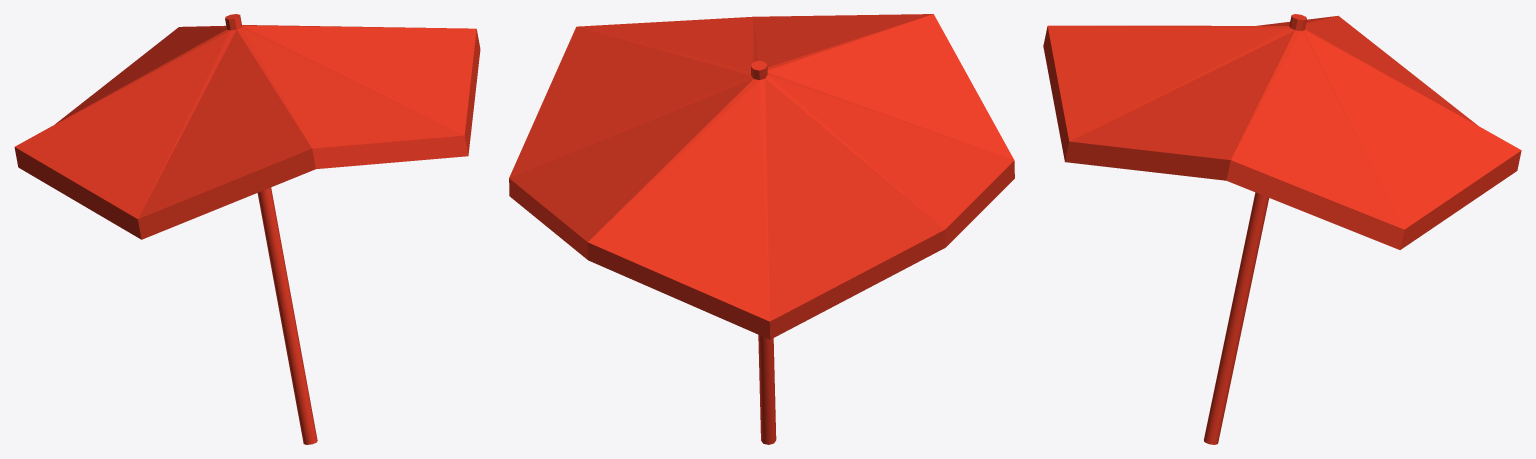
Rendered from Umbrella.FBX.
3 renders of one model, left to right at view 1: azimuth 30°, elevation 25°; view 2: azimuth 150°, elevation 25°; view 3: azimuth 270°, elevation 25°, orthographic. The views are drawn at different scales.
Parts seen in each view (by area): view 1: Umbrella; view 2: Umbrella; view 3: Umbrella.
Boxes of the visible parts, left/top/right/bottom form: Umbrella: left=14, top=14, right=480, bottom=444; Umbrella: left=509, top=14, right=1014, bottom=444; Umbrella: left=1043, top=14, right=1521, bottom=444.
Bounding box in the file's own units: 5.79 × 5.46 × 5.76.
